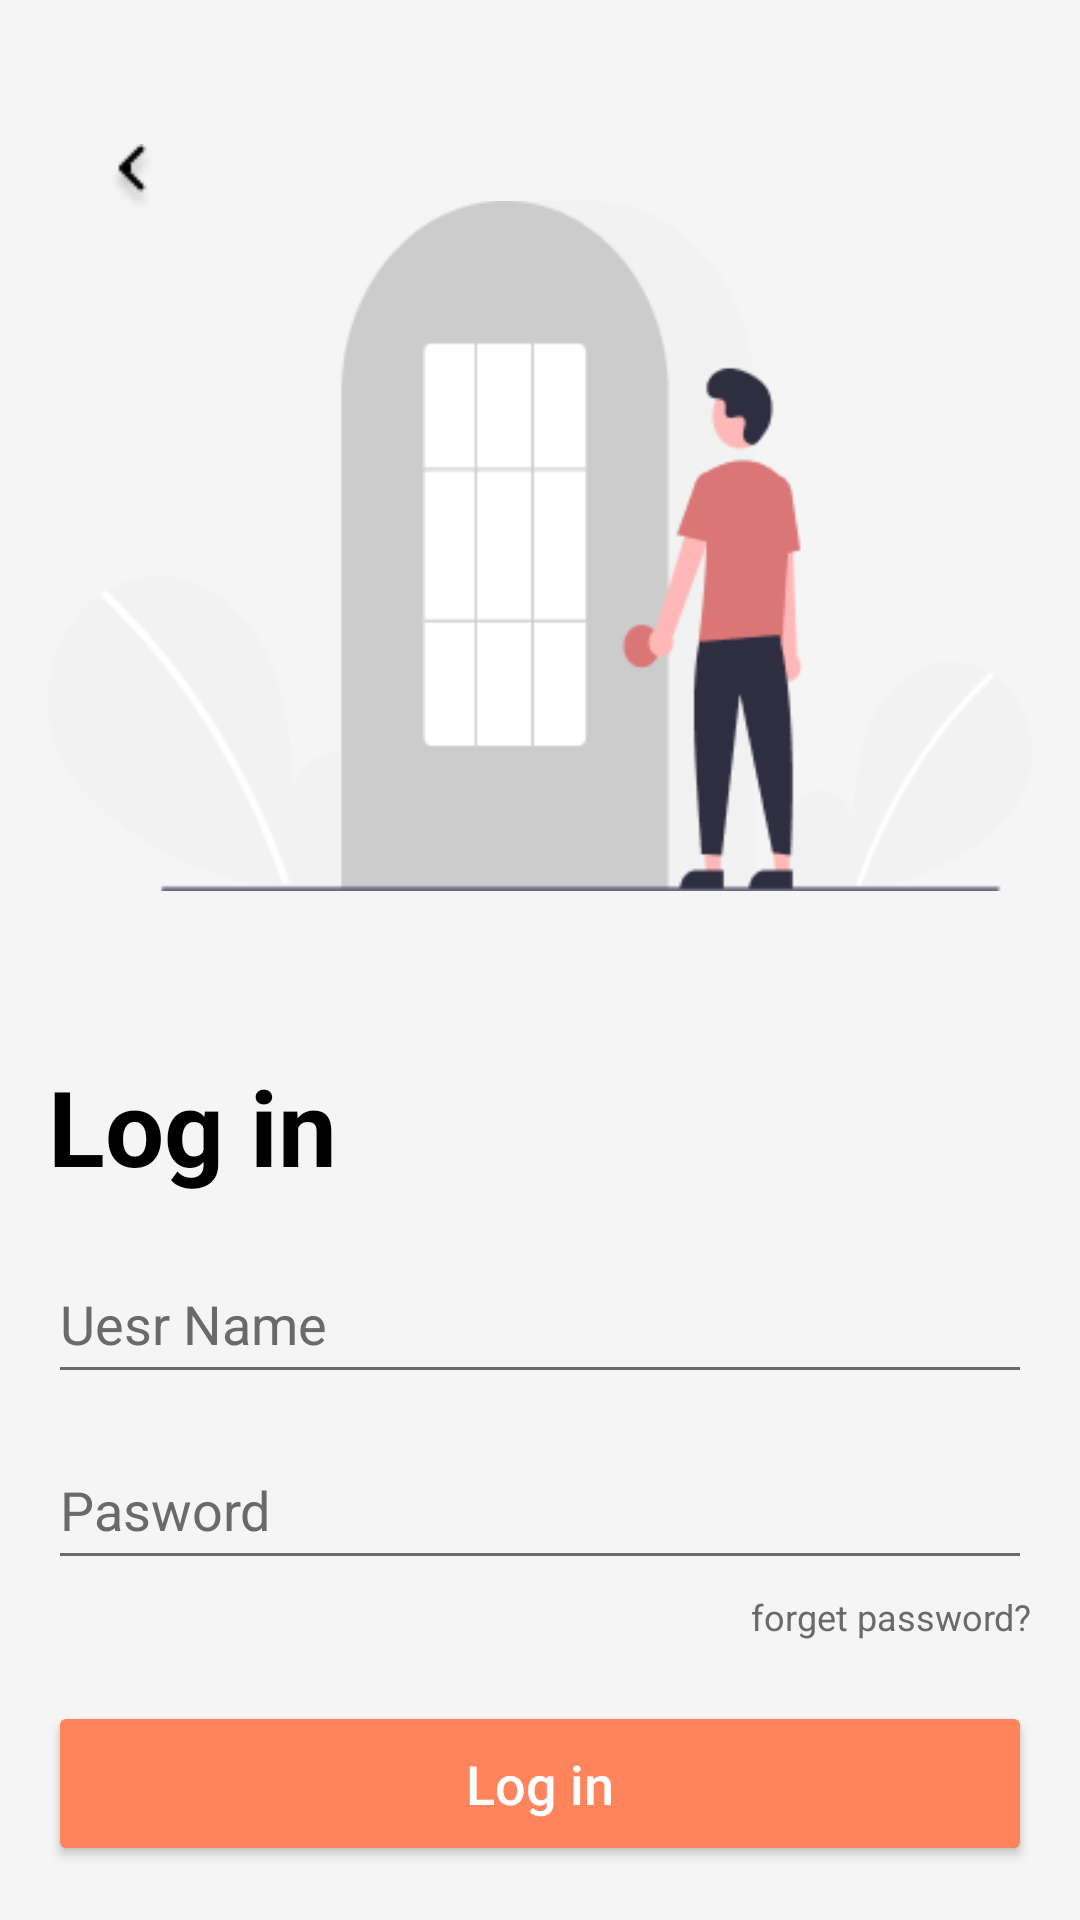

Icon click points for this 1080px x 1920px phone screenshot, format [x,y]:
Back Button: [132,169]
